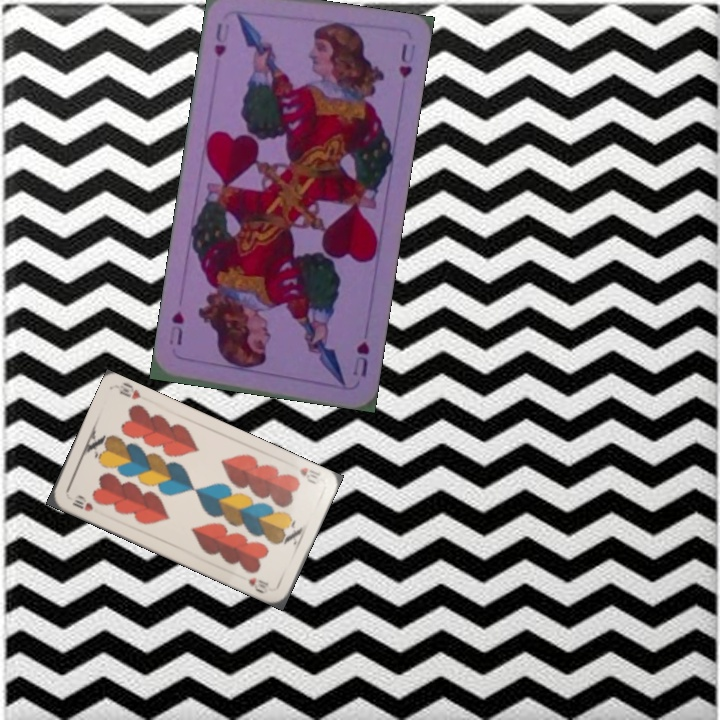H10: (295, 463, 323, 487), (68, 495, 96, 514)
HU: (209, 19, 233, 60), (349, 337, 372, 379)
